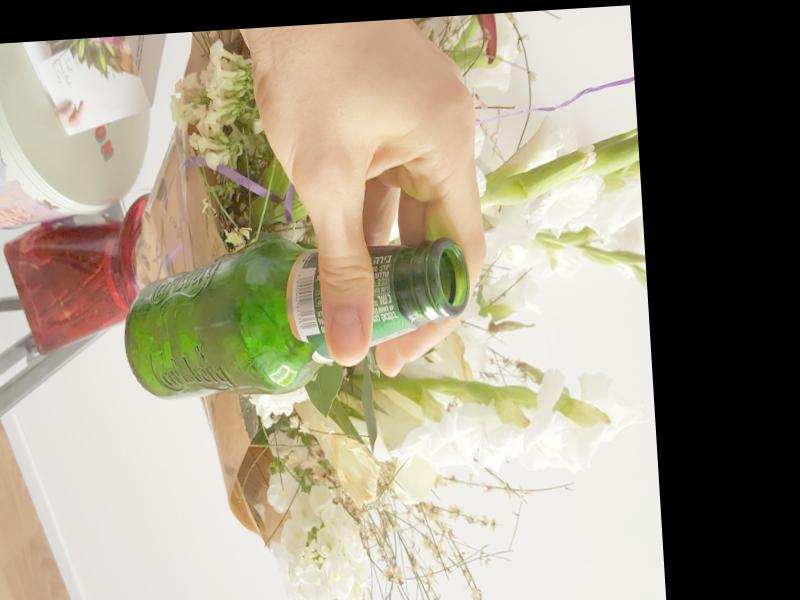Beer: (117, 228, 472, 404)
